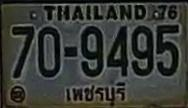0: (38, 26, 59, 76)
4: (107, 25, 128, 76)
5: (156, 24, 178, 75)
7: (12, 25, 34, 77)
9: (80, 25, 102, 76), (132, 25, 152, 75)
PBI: (62, 79, 132, 108)
